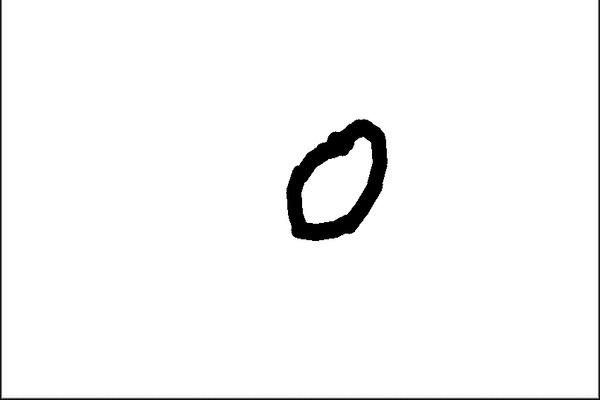O: (276, 105, 392, 253)
